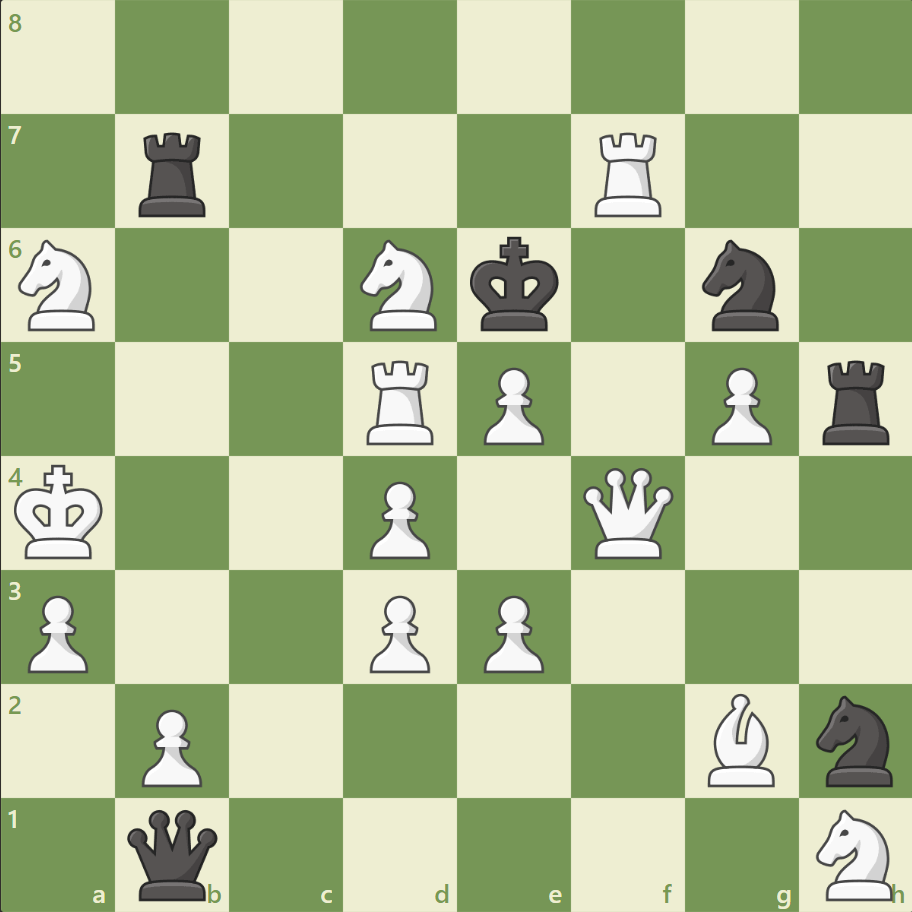B: (698, 687, 782, 790)
K: (11, 458, 111, 566)
N: (351, 234, 449, 337), (11, 234, 108, 337), (806, 802, 903, 904)
P: (474, 359, 549, 450), (701, 359, 776, 450), (20, 586, 95, 677), (474, 586, 549, 677), (133, 700, 208, 791), (361, 473, 435, 564), (361, 586, 435, 677)
Q: (578, 463, 677, 562)
R: (587, 125, 670, 222), (360, 352, 442, 449)
k: (465, 231, 565, 339)
n: (692, 234, 789, 337), (806, 688, 903, 791)
q: (124, 804, 223, 903)
r: (814, 352, 897, 449), (133, 125, 215, 222)
